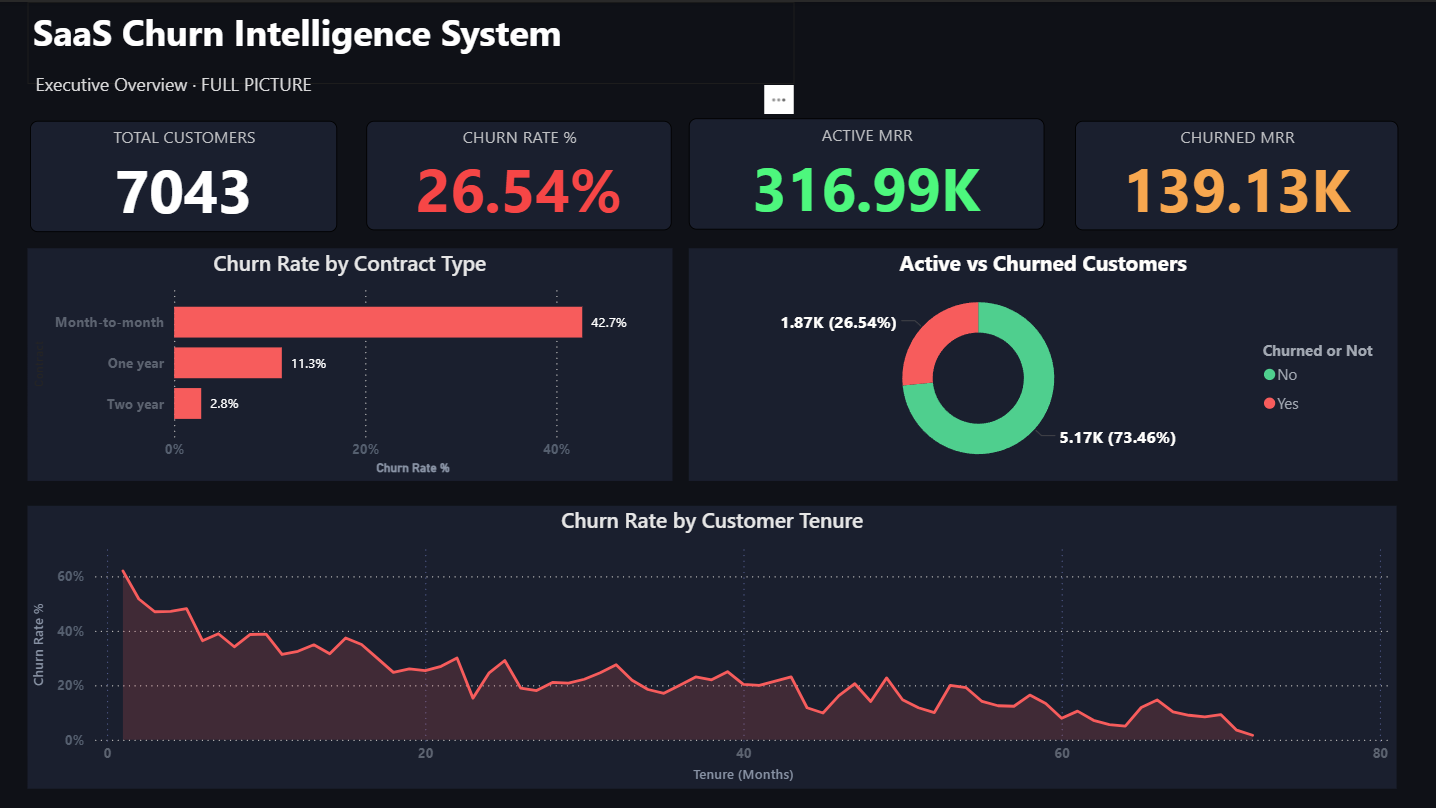

What the dashboard file says about the page in this screenshot:
{"tool":"powerbi","page":{"name":"Overview","canvas":[1280,720],"ordinal":0},"visuals":[{"type":"card","title":"TOTAL CUSTOMERS","fields":{"Values":["Count(telco_churn.customerID)"]},"box":[26.4,105.5,273.9,99.4],"z":0},{"type":"card","title":"CHURN RATE %","fields":{"Values":["telco_churn.Churn Rate %"]},"box":[326.7,105.5,271.9,97.4],"z":1000},{"type":"card","title":"CHURNED MRR","fields":{"Values":["telco_churn.Churned MRR"]},"box":[957.8,105.5,288.1,97.4],"z":2000},{"type":"card","title":"ACTIVE MRR","fields":{"Values":["telco_churn.Active MRR"]},"box":[612.8,103.5,316.6,99.4],"z":3000},{"type":"clusteredBarChart","title":"Churn Rate by Contract Type","fields":{"Category":["telco_churn.Contract"],"Y":["telco_churn.Churn Rate %"]},"box":[24.4,219.2,574.3,207],"z":4000},{"type":"lineChart","title":"Churn Rate by Customer Tenure","fields":{"Category":["telco_churn.tenure"],"Y":["telco_churn.Churn Rate %"]},"box":[24.4,448.4,1219.5,251.6],"z":5000},{"type":"donutChart","title":"Active vs Churned Customers","fields":{"Category":["telco_churn.Churn"],"Y":["CountNonNull(telco_churn.customerID)"]},"box":[612.8,219.2,631.1,207],"z":6000},{"type":"textbox","box":[24.4,0,683.8,73.1],"z":7000},{"type":"textbox","box":[26.4,56.8,286.1,46.7],"z":8000}]}

Visuals, with their boxes in screenshot pixels (x1, y1, x2, y2), scaled from the page's 1280x720 canvas onto the 1436x808 screenshot:
"TOTAL CUSTOMERS" card: locate(30, 118, 337, 230)
"CHURN RATE %" card: locate(367, 118, 672, 228)
"CHURNED MRR" card: locate(1075, 118, 1398, 228)
"ACTIVE MRR" card: locate(687, 116, 1043, 228)
"Churn Rate by Contract Type" clusteredBarChart: locate(27, 246, 672, 478)
"Churn Rate by Customer Tenure" lineChart: locate(27, 503, 1396, 786)
"Active vs Churned Customers" donutChart: locate(687, 246, 1396, 478)
textbox: locate(27, 0, 795, 82)
textbox: locate(30, 64, 351, 116)
